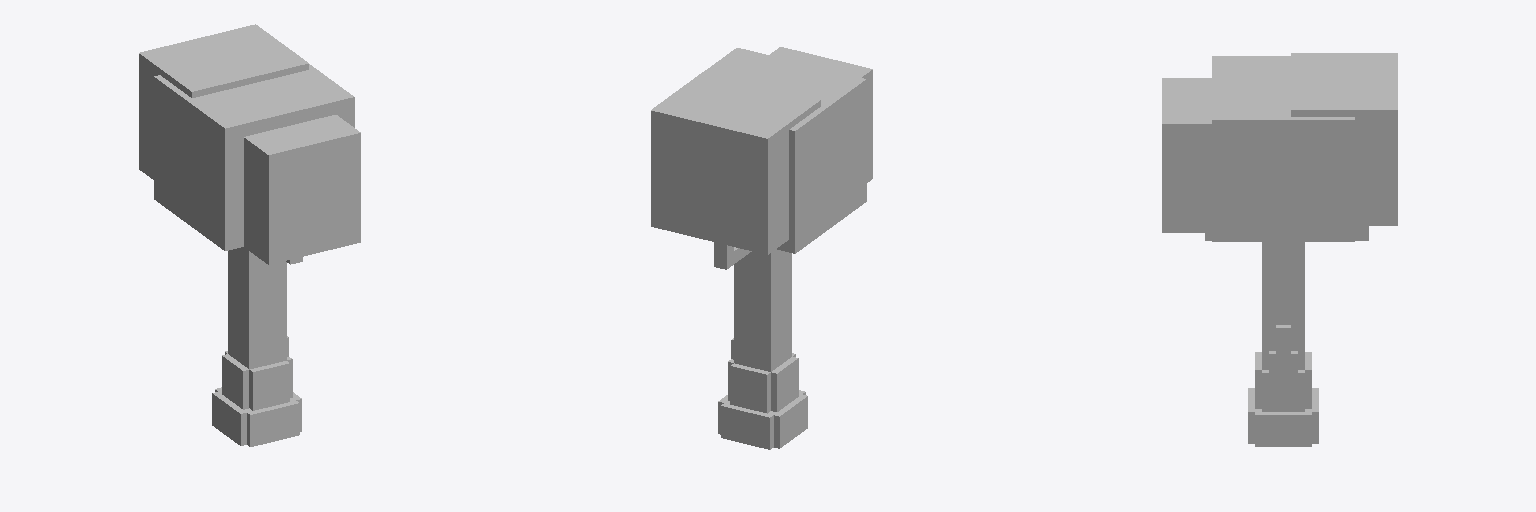
The model's file is Tree-1.obj.
The picture shows the model from 3 angles: view 1: azimuth 30°, elevation 25°; view 2: azimuth 150°, elevation 25°; view 3: azimuth 270°, elevation 25°; orthographic projection.
Parts seen in each view (by area): view 1: object 1; view 2: object 1; view 3: object 1.
Boxes of the visible parts, <box> form: object 1: <box>139,24,360,446</box>; object 1: <box>651,47,872,449</box>; object 1: <box>1162,53,1397,446</box>.
Bounding box in the file's own units: 2.1 × 5.4 × 3.3.